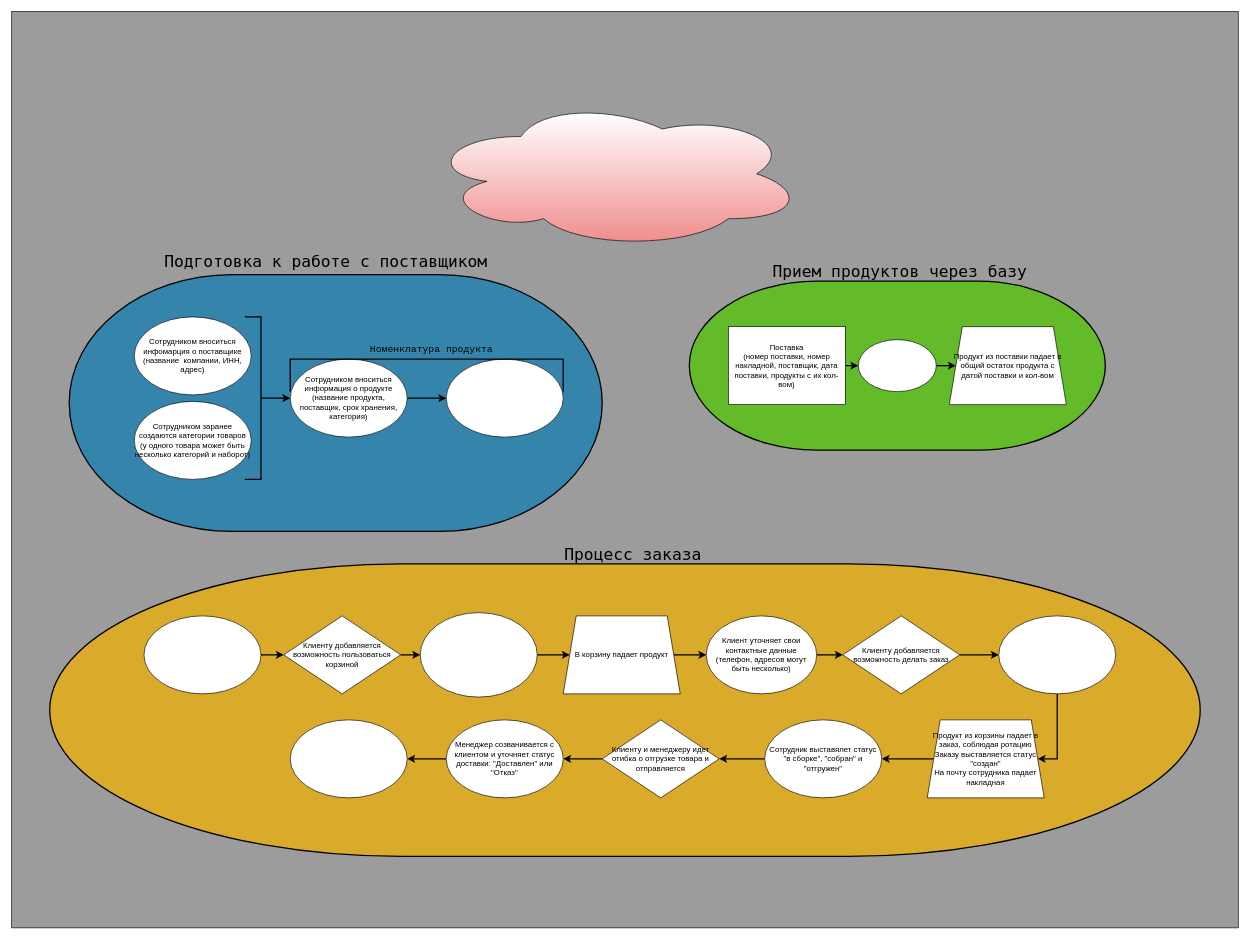
This 1249x939 diagram has some shape labels left out. The shapes that lost their labels are listed below. From the top down, each one's box as (x1, y1, x2, y2) in pixels, then its label:
(426, 98, 804, 249): Продуктовый розничный магазин
(858, 339, 936, 392): Сотрудник вносит данные поставки в базу
(446, 358, 563, 437): Сотрудником вноситься описание продукта (есть настраиваемы поля)
(143, 615, 261, 694): Клиент регистрируется (имя, фамилия, почта)
(420, 612, 537, 697): Клиент добавляет продукт в корзину
(998, 615, 1116, 694): Клиент делает заказ
(290, 719, 407, 798): Менеджер выставляет заказу необходимый статус
